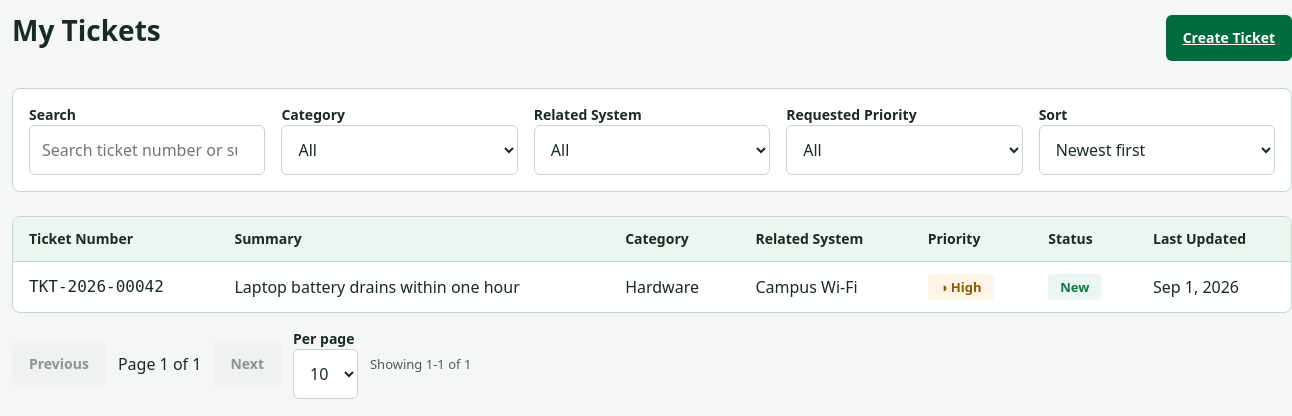
Test case: MyTickets (UI-25 - FR-21) › hides Clear Filters until something is applied
Expected: the row with test id "ticket-row-TKT-2026-00042" is shown, [13,261,1291,312]
Select "High" in the dropdown with test id "filter-priority" at (904, 150), box [786,125,1023,175]
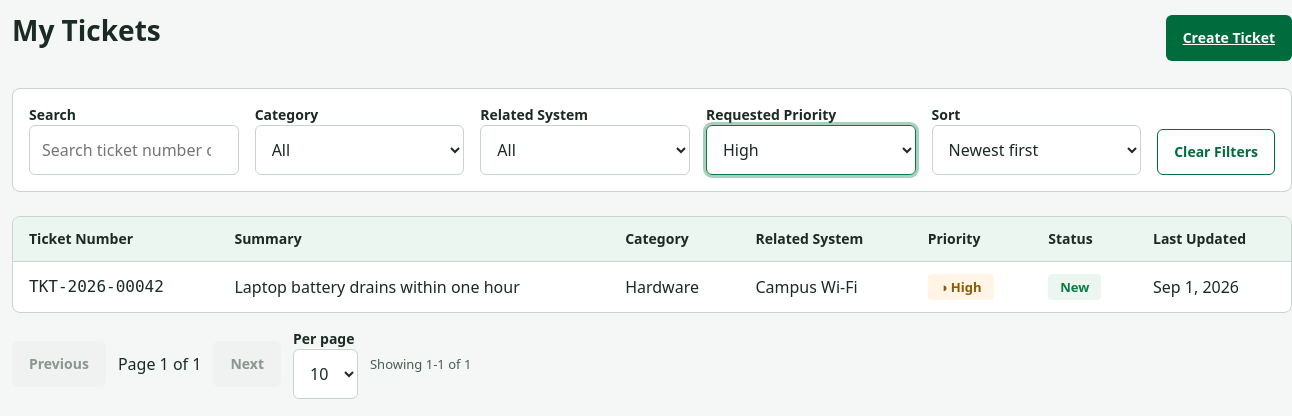
Result: the button with test id "btn-clear-filters" is shown at [1157,129,1275,175]
